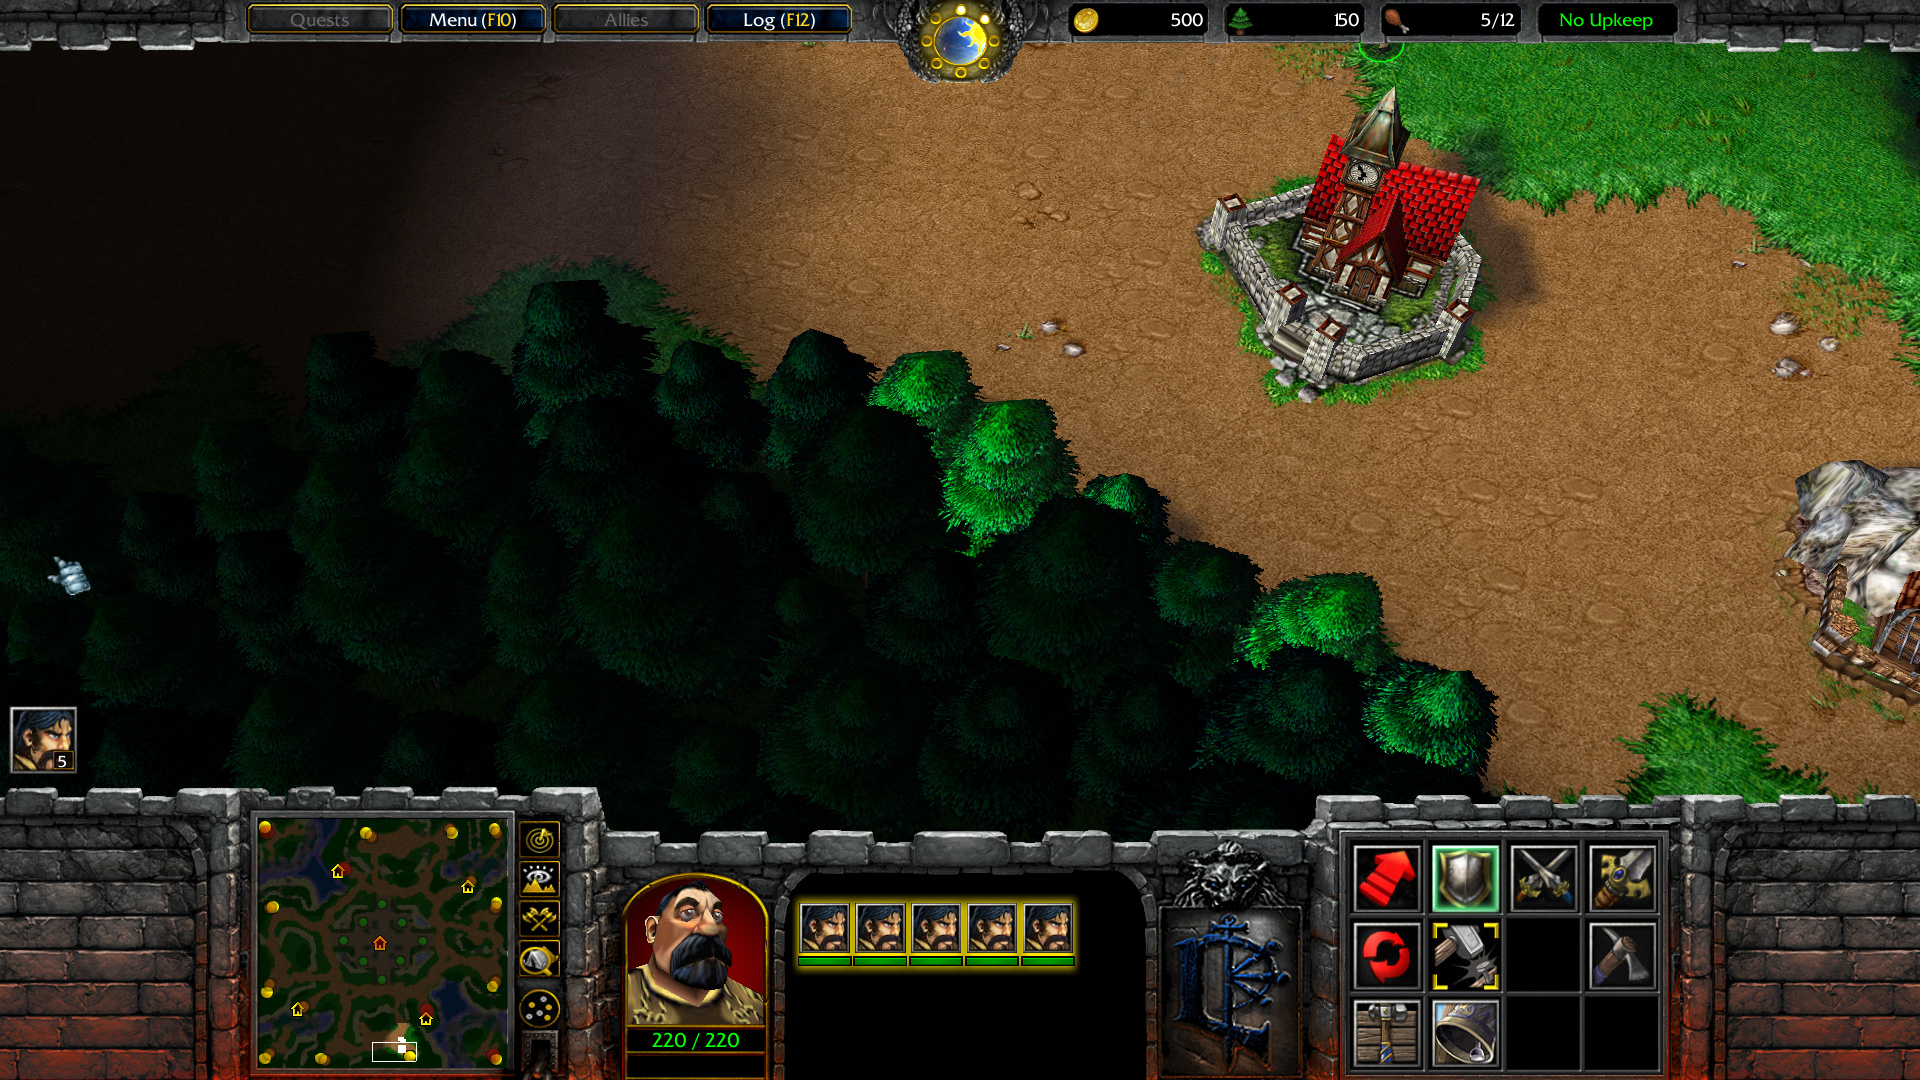Townhall: (1191, 84, 1509, 412)
